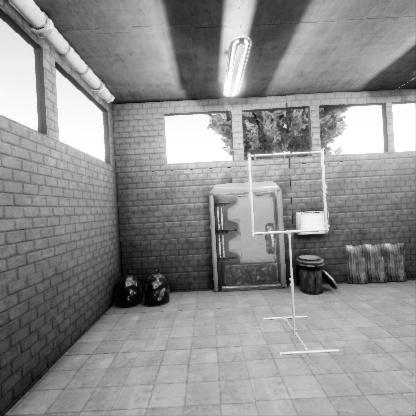gate: (247, 183, 333, 269)
